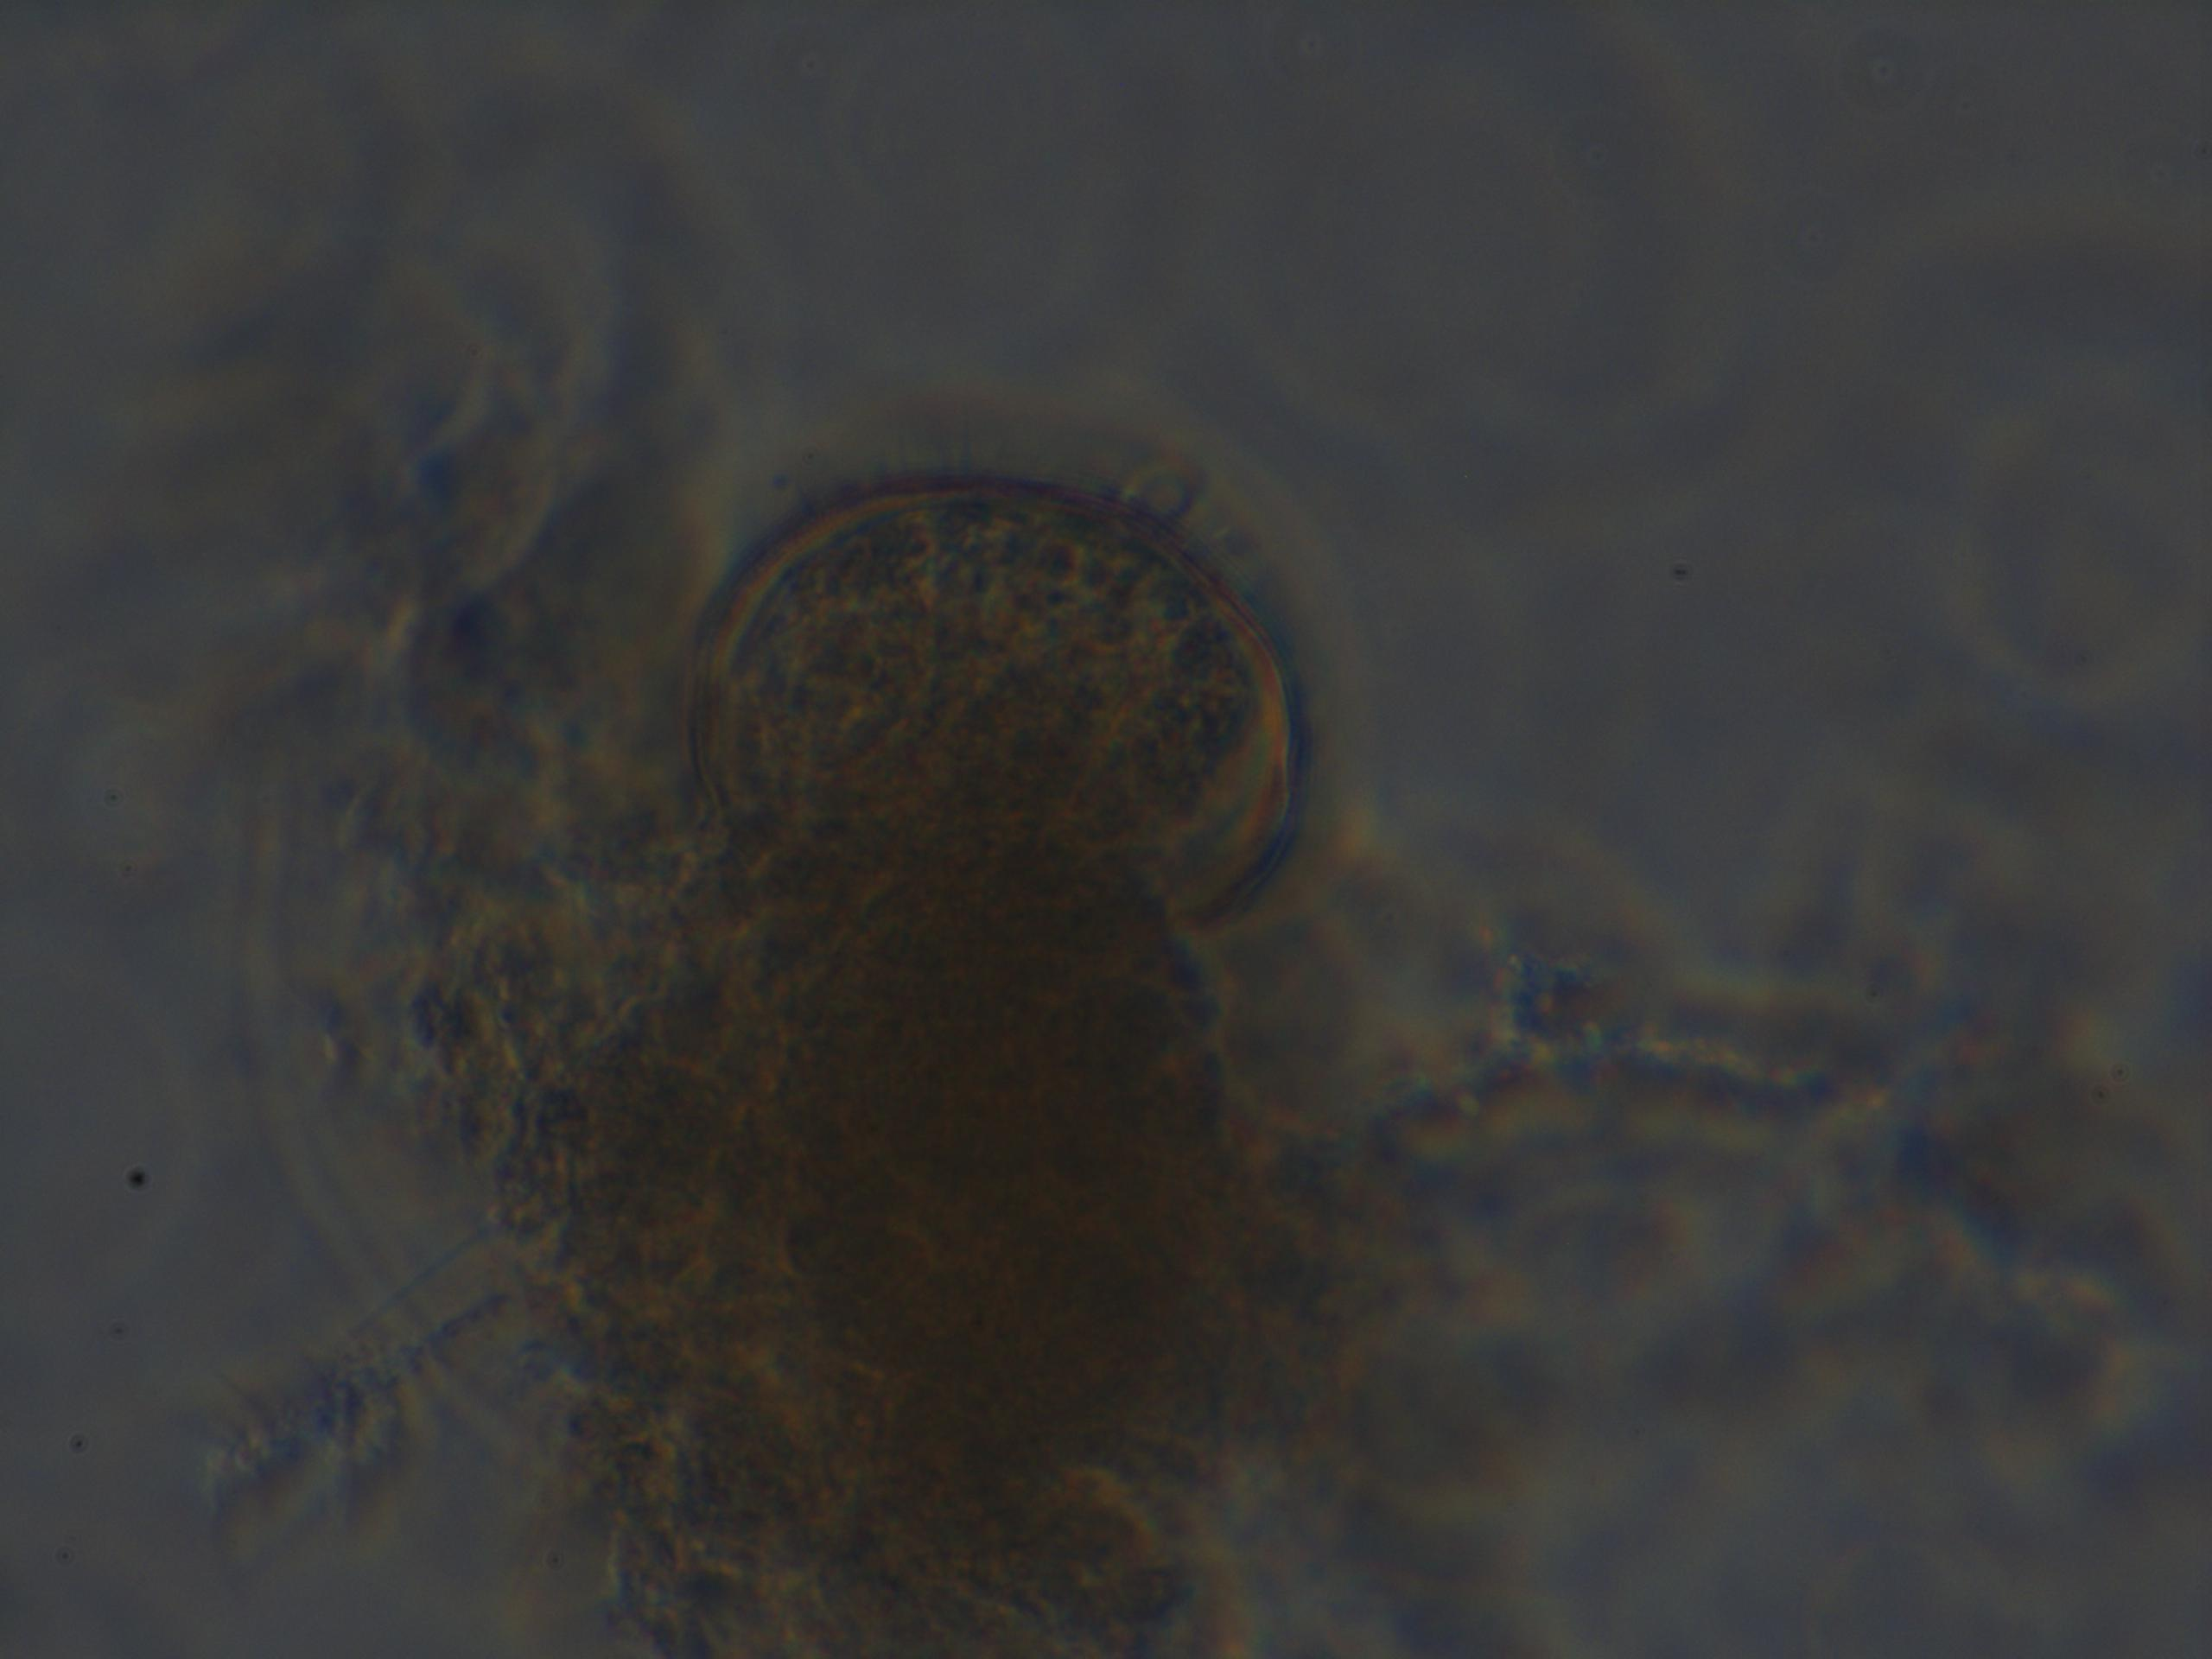protozoa: (625, 464, 1313, 941)
